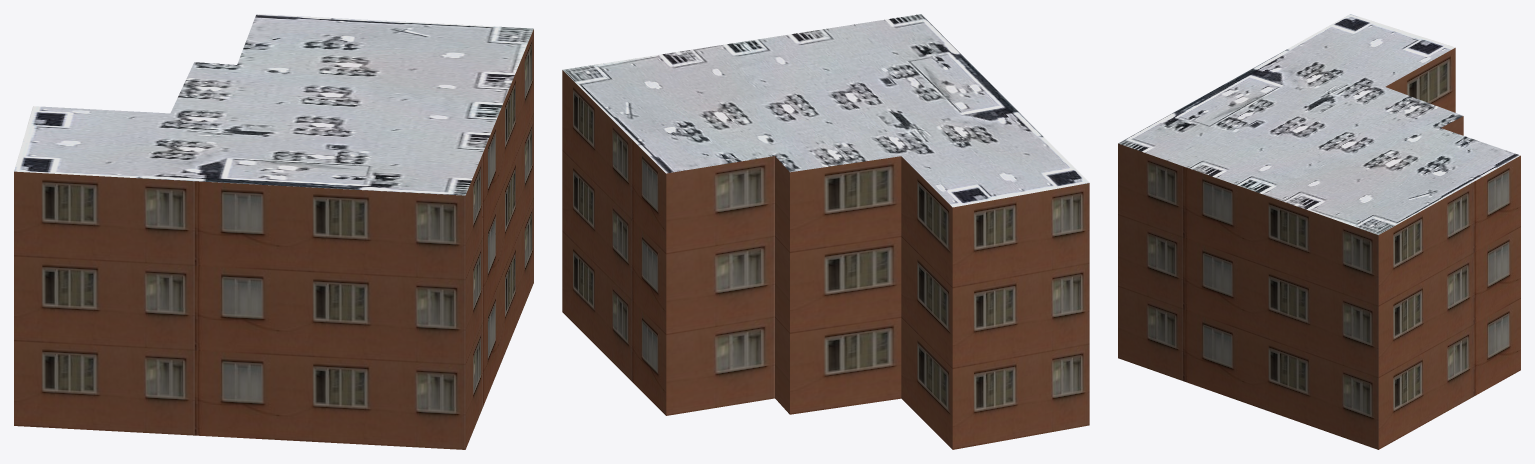
The model's file is ResTex__4438.fbx.
The picture shows the model from 3 angles, left to right: view 1: azimuth 30°, elevation 25°; view 2: azimuth 150°, elevation 25°; view 3: azimuth 270°, elevation 25°; orthographic projection. The views are drawn at different scales.
Parts seen in each view (by area): view 1: CityEngineMaterial_20_m, CityEngineMaterial_m; view 2: CityEngineMaterial_20_m, CityEngineMaterial_m; view 3: CityEngineMaterial_20_m, CityEngineMaterial_m.
Boxes of the visible parts, left/top/right/bottom form: CityEngineMaterial_20_m: left=14, top=29, right=533, bottom=449; CityEngineMaterial_m: left=14, top=14, right=533, bottom=195; CityEngineMaterial_20_m: left=562, top=70, right=1089, bottom=449; CityEngineMaterial_m: left=562, top=14, right=1089, bottom=207; CityEngineMaterial_20_m: left=1118, top=48, right=1520, bottom=449; CityEngineMaterial_m: left=1118, top=14, right=1520, bottom=234.
Size of the model in its own units: 19.87 by 9 by 15.3.
Materials: 2 (2 with a texture image).
